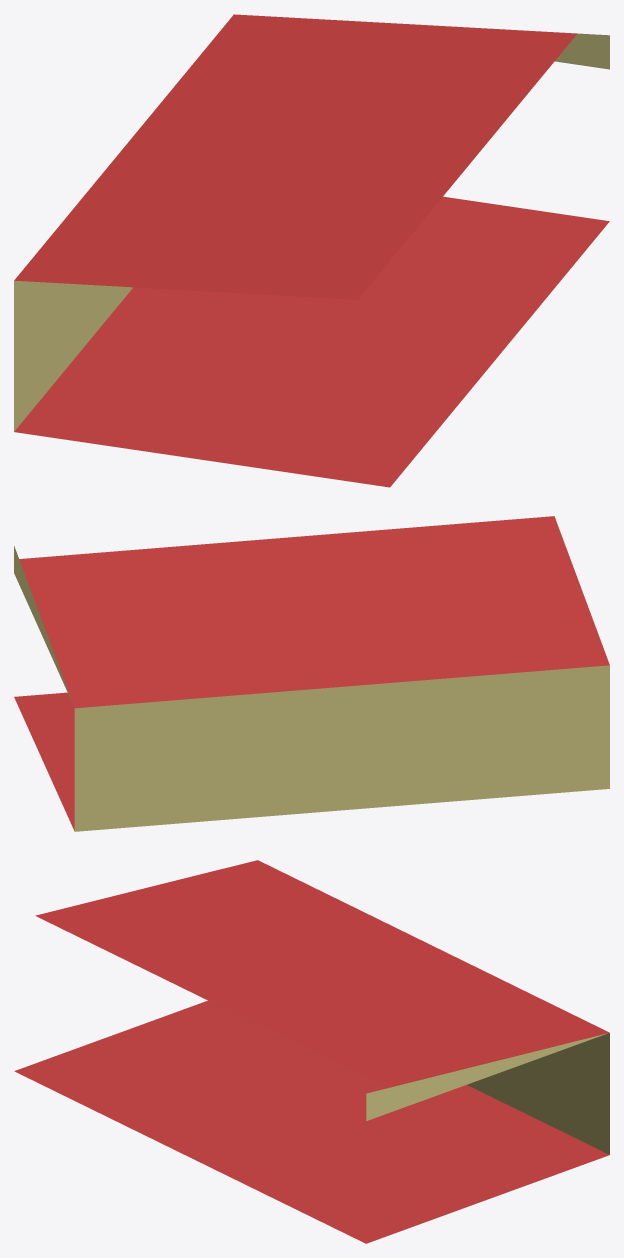
3 views of the same model, one above another, from view 1: azimuth 30°, elevation 25°; view 2: azimuth 150°, elevation 25°; view 3: azimuth 270°, elevation 25° (orthographic). The views are drawn at different scales.
Bounding box in the file's own units: 49.9 × 48.06 × 13.37.
